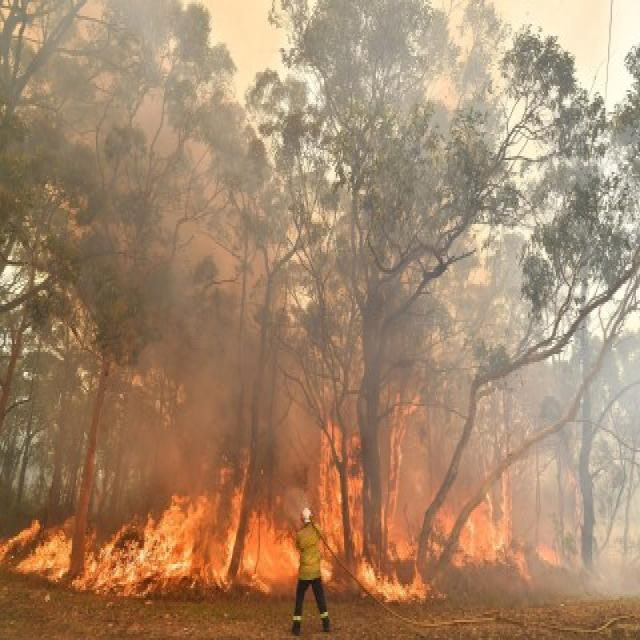fire: (82, 497, 217, 590), (1, 522, 70, 582)
